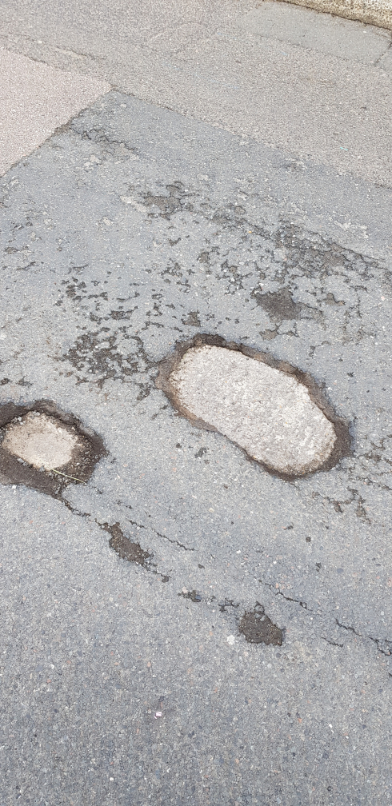pothole: (150, 327, 358, 481), (1, 395, 108, 496)
